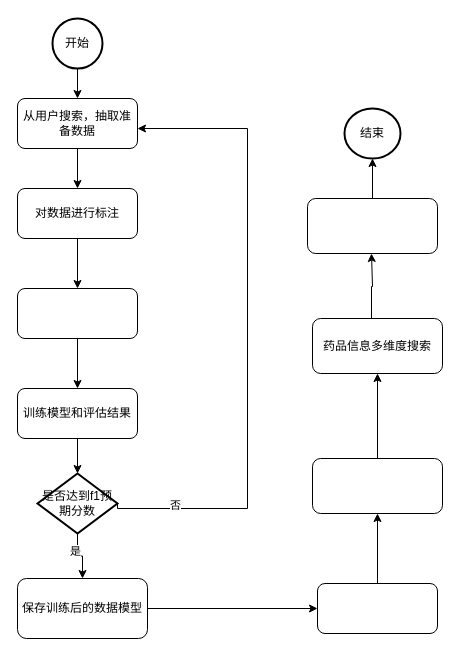
This 460x656 diagram has some shape labels left out. The centre of each missing label's shape, as x and y in pixels:
AI模型推理: the point at 377,486
传入用户搜索调用模: the point at 377,608
对数据划分训练和评估: the point at 77,313
搜索结果呈现给用户: the point at 372,226
